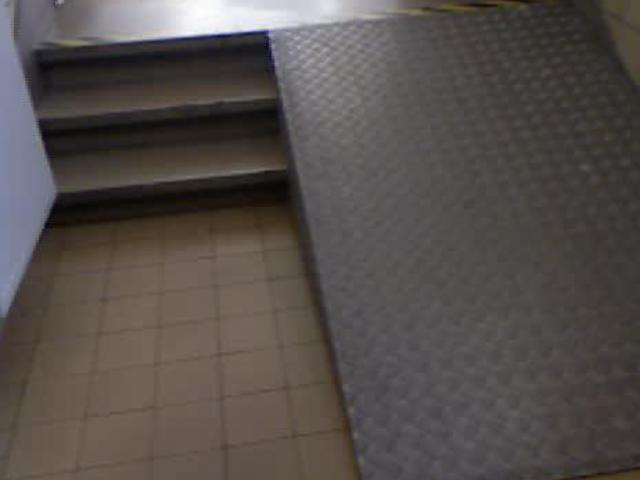Escaleras: (36, 8, 294, 230)
